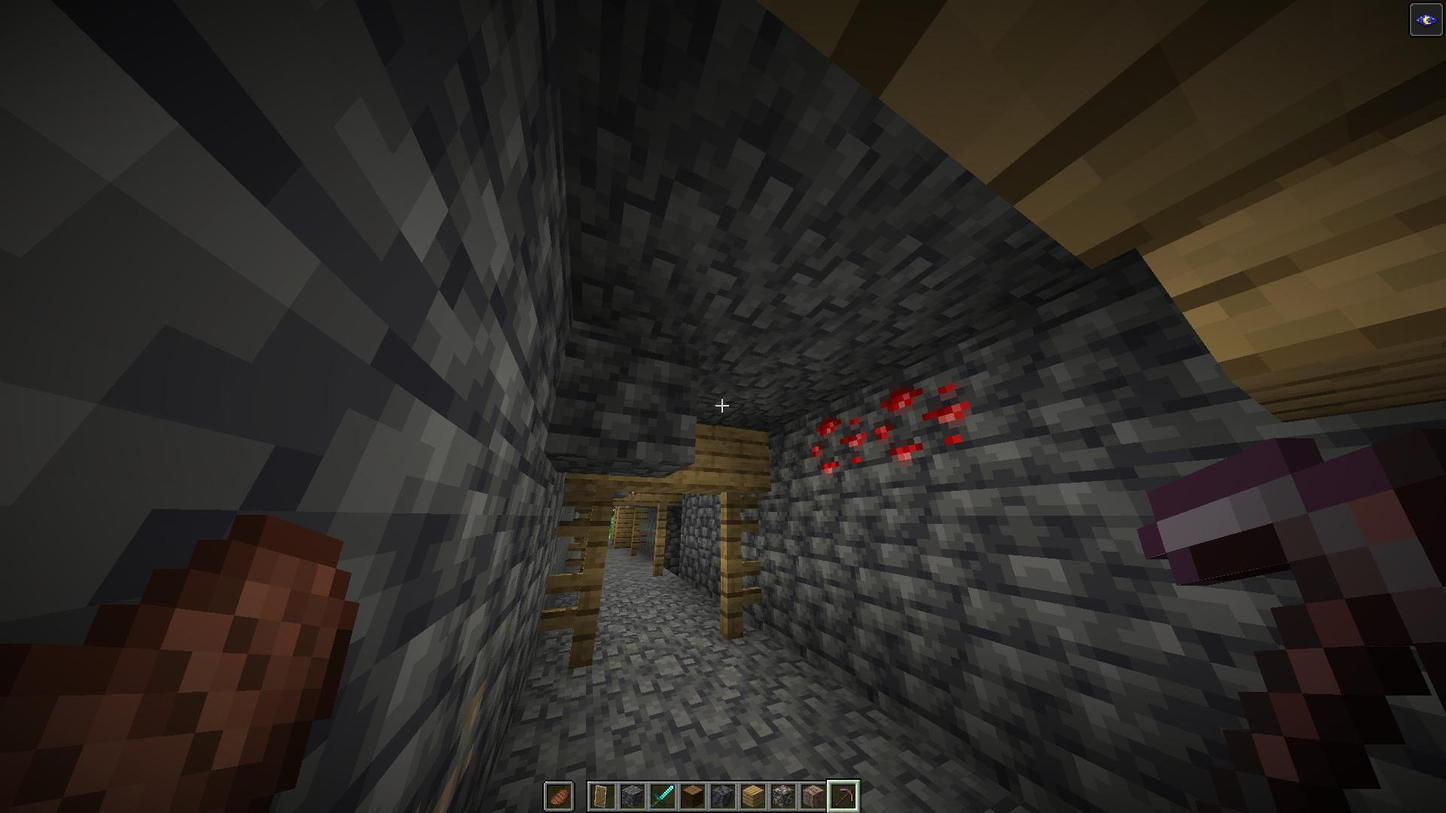redstone ore: (875, 382, 979, 473), (802, 404, 875, 480)
